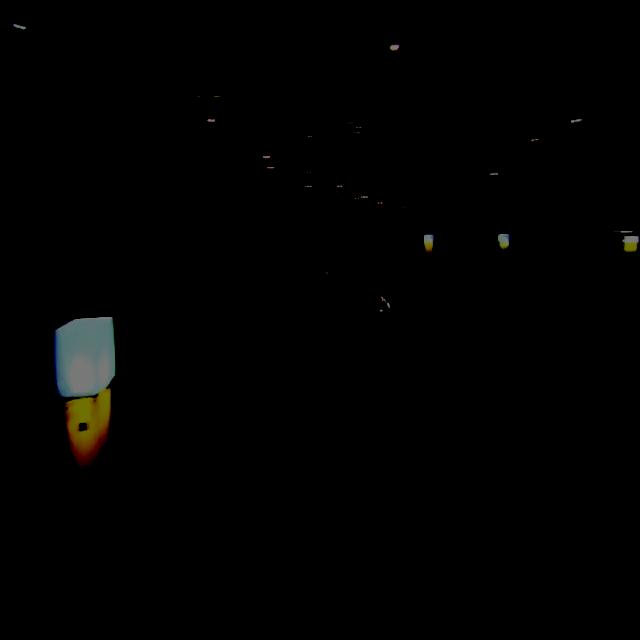Car: (190, 242, 395, 380)
